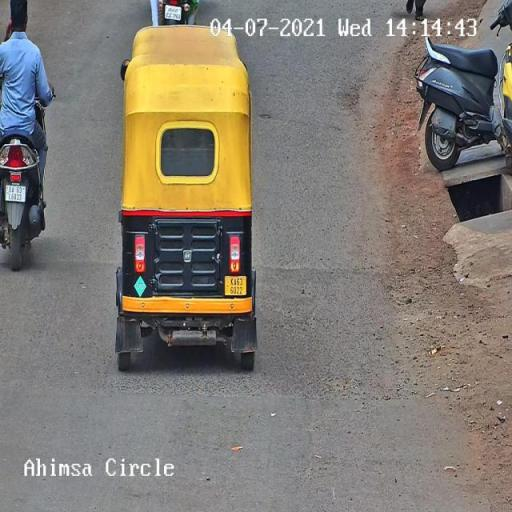numberplate: (2, 183, 28, 203)
using mobile: (5, 14, 15, 41)
